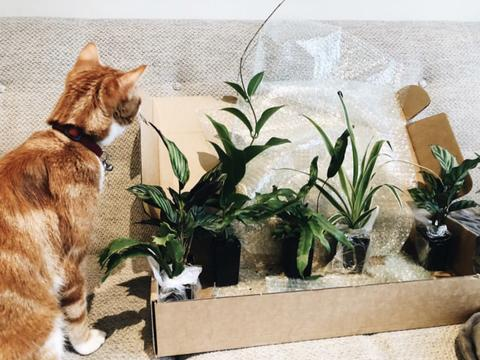cat: (1, 40, 162, 355)
plant: (105, 101, 288, 300), (195, 47, 292, 292), (250, 116, 357, 286), (318, 81, 400, 281), (401, 128, 480, 268)
